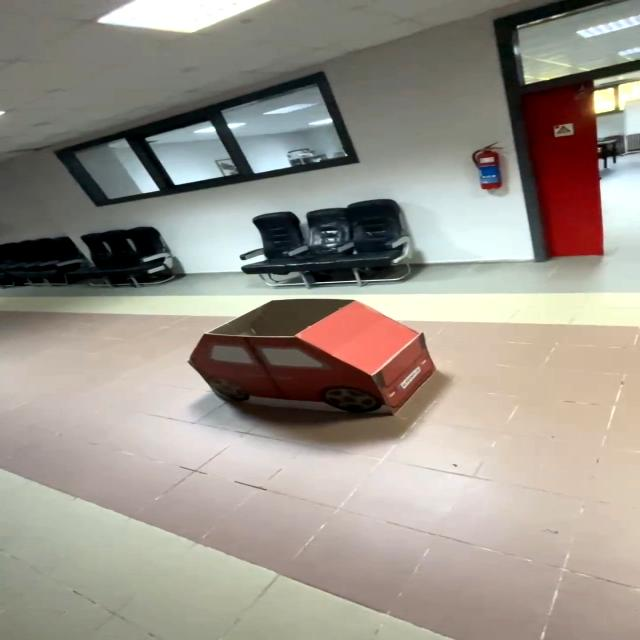red_car: (165, 283, 466, 433)
